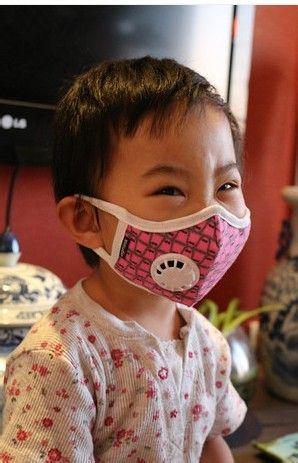OK: (100, 158, 252, 299)
